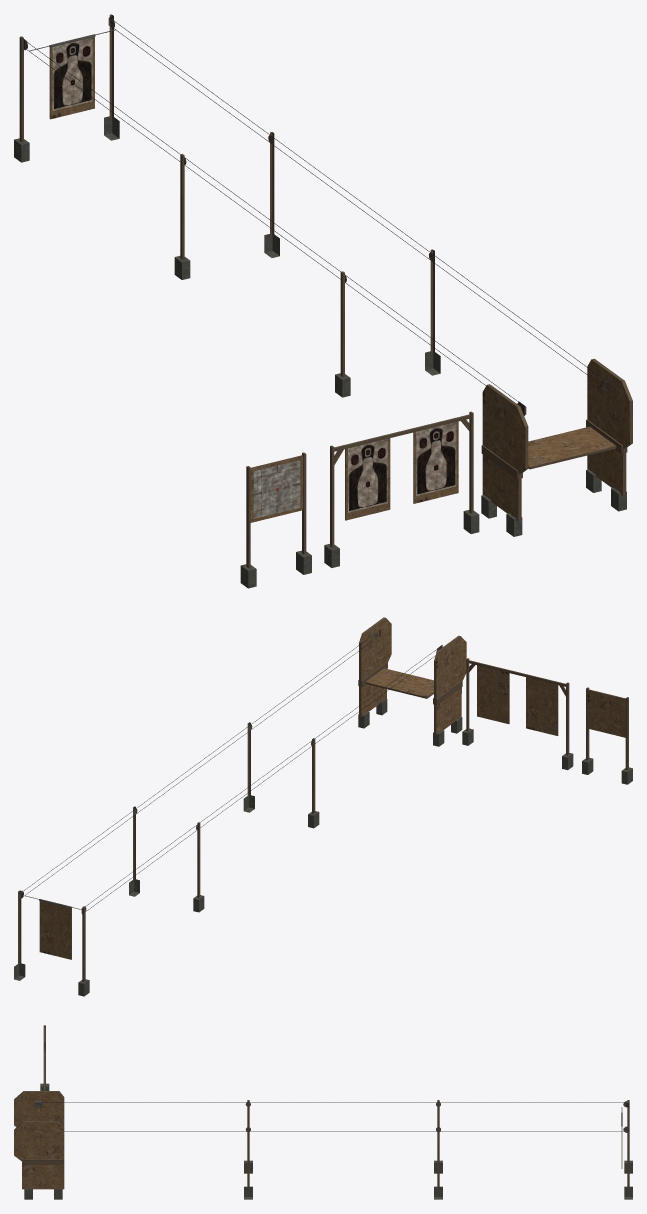
File: targets.glb
The picture shows the model from 3 angles, top to bottom: view 1: azimuth 30°, elevation 25°; view 2: azimuth 150°, elevation 25°; view 3: azimuth 270°, elevation 25°; orthographic projection. The views are drawn at different scales.
Parts seen in each view (by area): view 1: Moving Target Rails_7, BoothTable_8, BoothWall_9, Double Target_4, Moveable_target, Target(Full).001_2, Target(Full).002_3, Single Target_1, Target(Square)_0; view 2: Double Target_4, Moving Target Rails_7, BoothTable_8, BoothWall_9, Single Target_1, Moveable_target; view 3: BoothTable_8, Moving Target Rails_7, BoothWall_9.
Boxes of the visible parts, x1=… form: Moving Target Rails_7: x1=14, y1=14, x2=609, y2=415; BoothTable_8: x1=528, y1=358, x2=632, y2=511; BoothWall_9: x1=481, y1=384, x2=528, y2=536; Double Target_4: x1=324, y1=411, x2=479, y2=567; Moveable_target: x1=29, y1=29, x2=115, y2=119; Target(Full).001_2: x1=416, y1=422, x2=456, y2=496; Target(Full).002_3: x1=348, y1=438, x2=387, y2=512; Single Target_1: x1=240, y1=452, x2=311, y2=588; Target(Square)_0: x1=253, y1=460, x2=300, y2=518; Double Target_4: x1=462, y1=658, x2=573, y2=770; Moving Target Rails_7: x1=14, y1=629, x2=442, y2=996; BoothTable_8: x1=358, y1=617, x2=433, y2=728; BoothWall_9: x1=433, y1=635, x2=466, y2=746; Single Target_1: x1=582, y1=687, x2=632, y2=784; Moveable_target: x1=24, y1=895, x2=86, y2=959; BoothTable_8: x1=14, y1=1121, x2=64, y2=1199; Moving Target Rails_7: x1=34, y1=1100, x2=632, y2=1199; BoothWall_9: x1=14, y1=1091, x2=64, y2=1126.
Size of the model in its own units: 40.83 by 13.86 by 101.
Materials: 1 (1 with a texture image).
